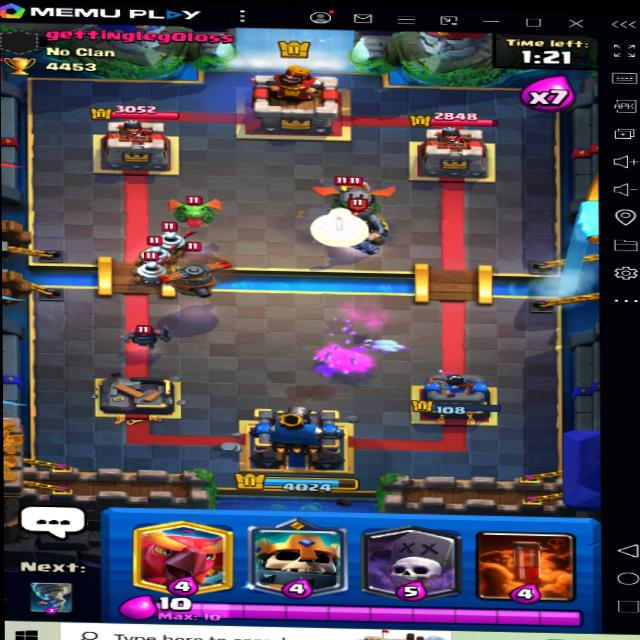baby-dragon: (156, 184, 240, 231)
dark-prince: (332, 202, 396, 252)
flying-machine: (160, 243, 232, 297)
inferno-dragon: (329, 169, 387, 221)
mini-pekka: (121, 318, 175, 352)
zappie: (129, 252, 183, 287), (130, 236, 180, 270), (153, 219, 200, 250)
